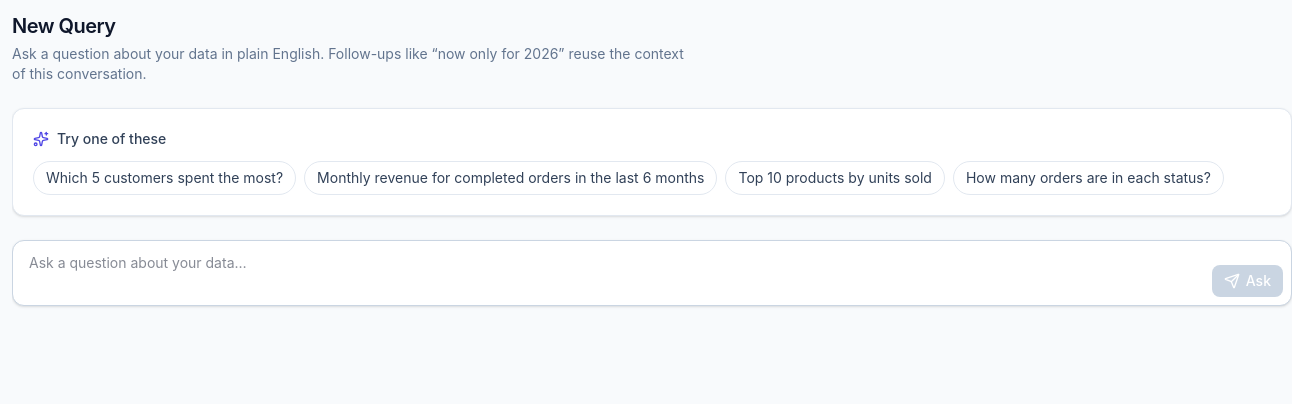
Test: NewQueryPage › surfaces backend errors and keeps the input
Type "hello" into the text box named "Your question".
click(612, 273); type("hello")  # box [21, 249, 1204, 297]
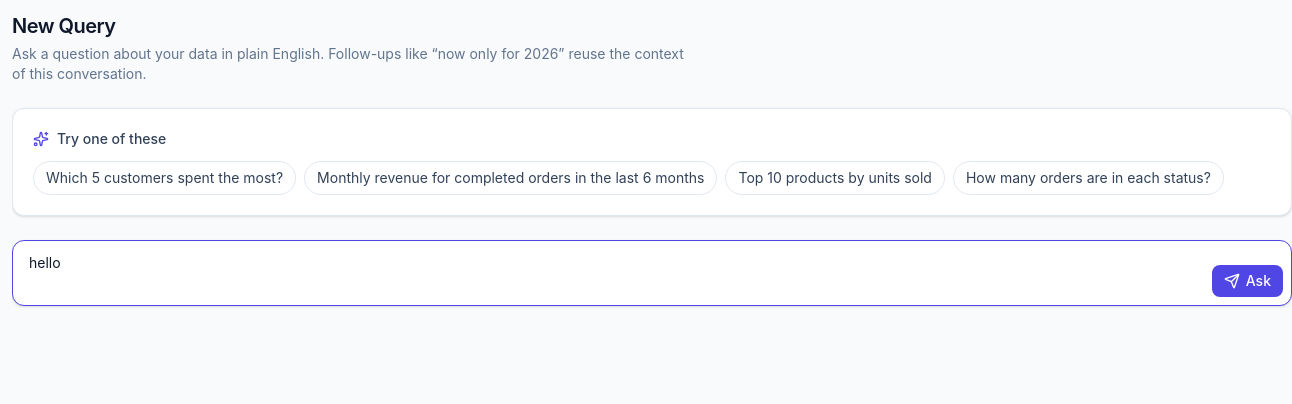
Click the button "Ask".
click(1247, 281)  # box [1212, 265, 1283, 297]
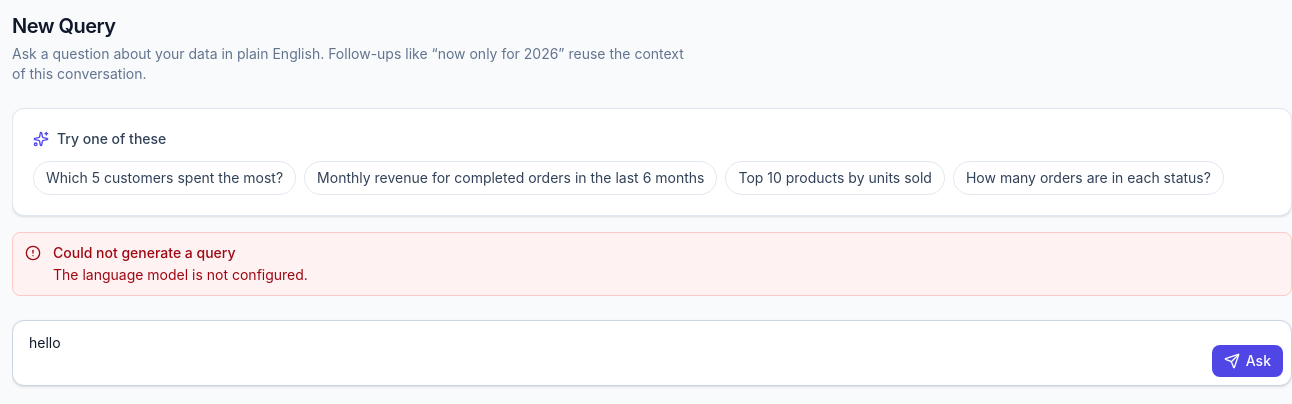
Expected: the message shows "The language model is not configured.", [53, 266, 308, 283]
